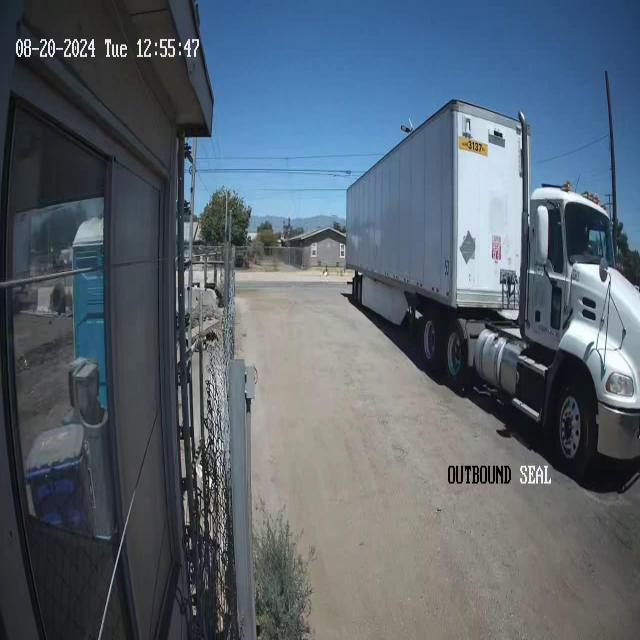TRUCK_IN: (344, 98, 640, 500)
